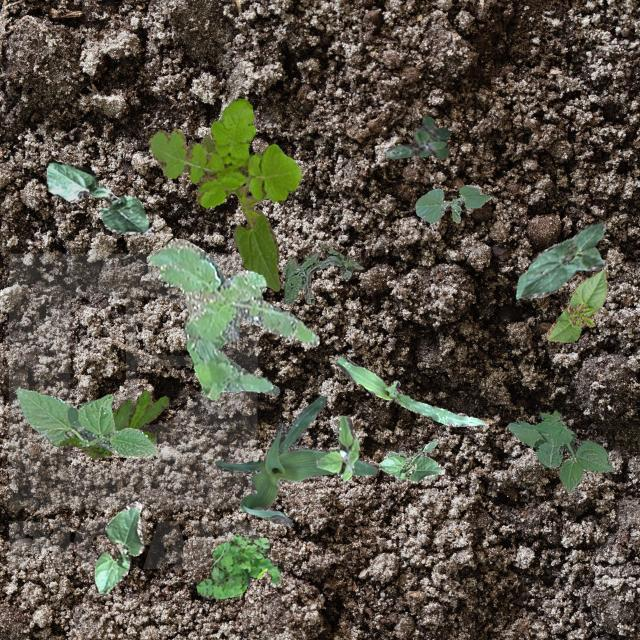crop: (214, 394, 376, 524), (202, 134, 278, 290), (334, 356, 484, 426), (15, 386, 156, 456), (44, 160, 154, 236), (514, 220, 604, 298), (91, 501, 142, 594), (546, 268, 606, 342), (414, 184, 492, 222), (376, 454, 444, 482)
weed: (146, 236, 318, 398), (147, 98, 300, 206), (507, 409, 612, 492), (51, 390, 168, 458), (195, 532, 278, 598), (282, 244, 362, 304), (316, 414, 360, 480), (384, 114, 448, 158), (386, 438, 438, 480)
